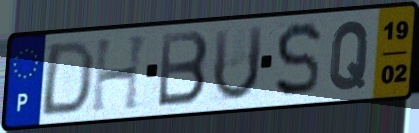B: (155, 28, 212, 110)
D: (37, 38, 98, 118)
H: (89, 31, 152, 115)
Q: (326, 18, 373, 93)
S: (273, 19, 324, 100)
U: (210, 22, 266, 105)
